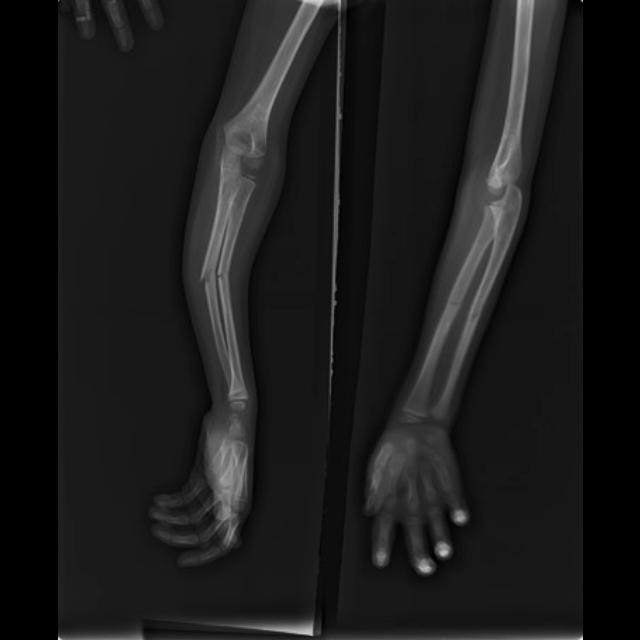Fracture: (196, 257, 219, 288), (213, 261, 231, 292), (465, 301, 485, 328), (443, 292, 465, 313)
